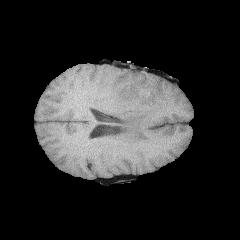glioma: (109, 69, 172, 141)
